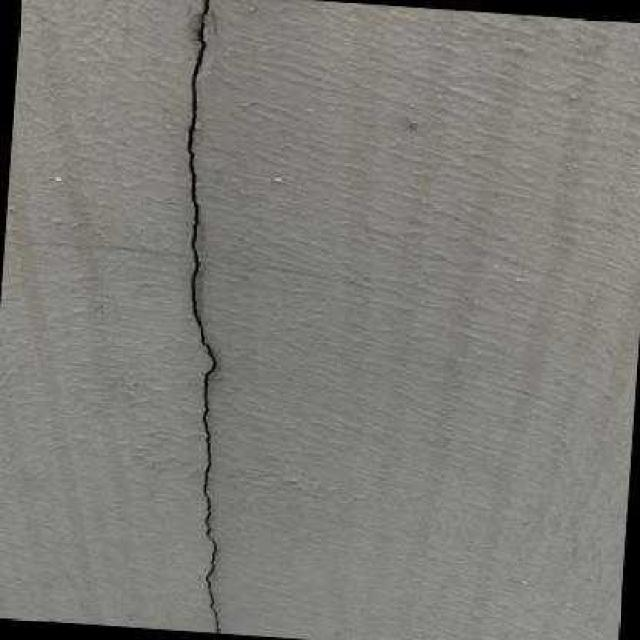D00: (187, 0, 221, 634)
